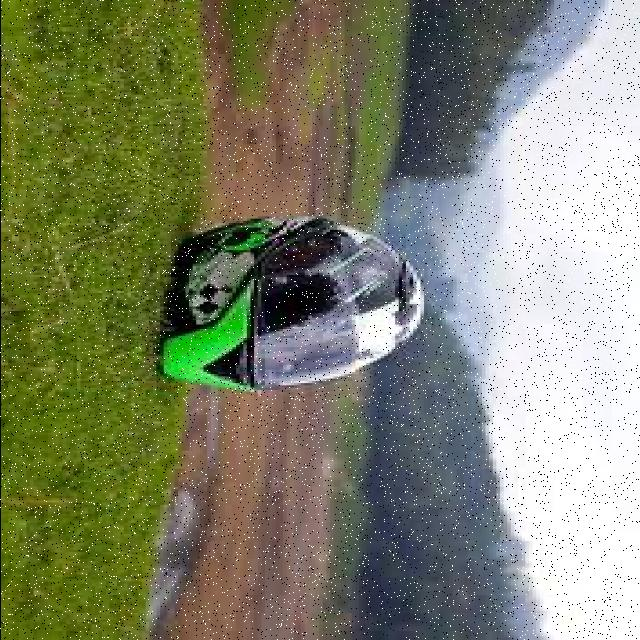Helmet: (162, 216, 423, 391)
